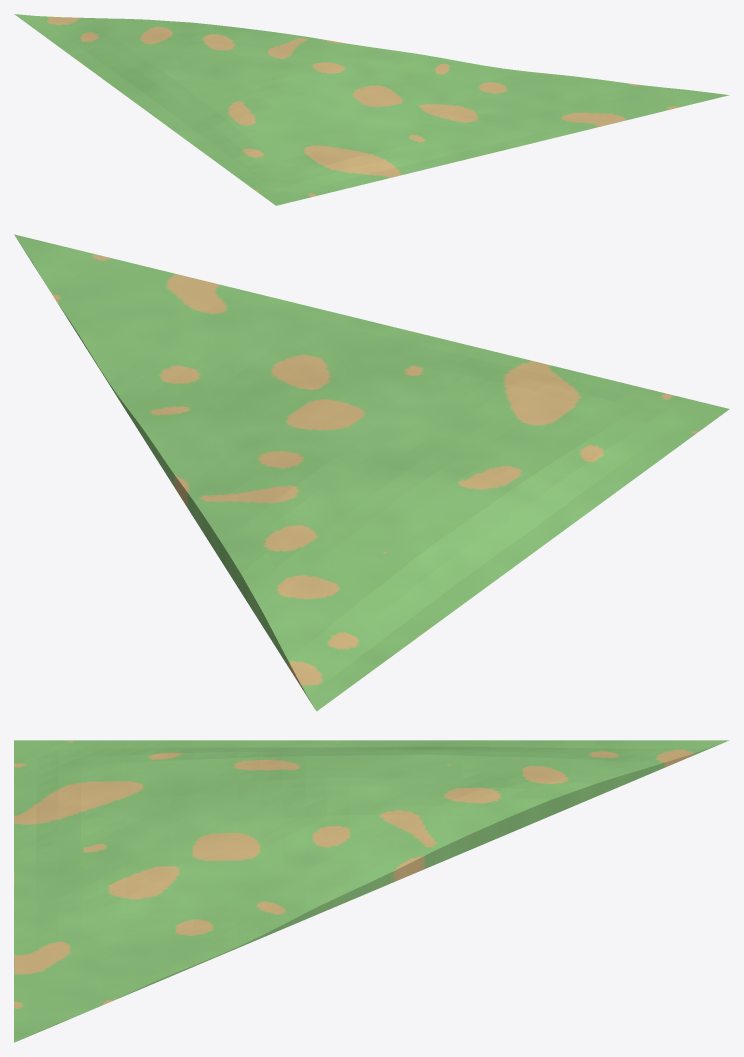
File: Grass_Flat_05_NW.obj
The picture shows the model from 3 angles, top to bottom: view 1: azimuth 30°, elevation 25°; view 2: azimuth 150°, elevation 25°; view 3: azimuth 270°, elevation 25°; orthographic projection. The views are drawn at different scales.
Bounding box in the file's own units: 10 × 0.3049 × 10.
1 material, 1 textured.
